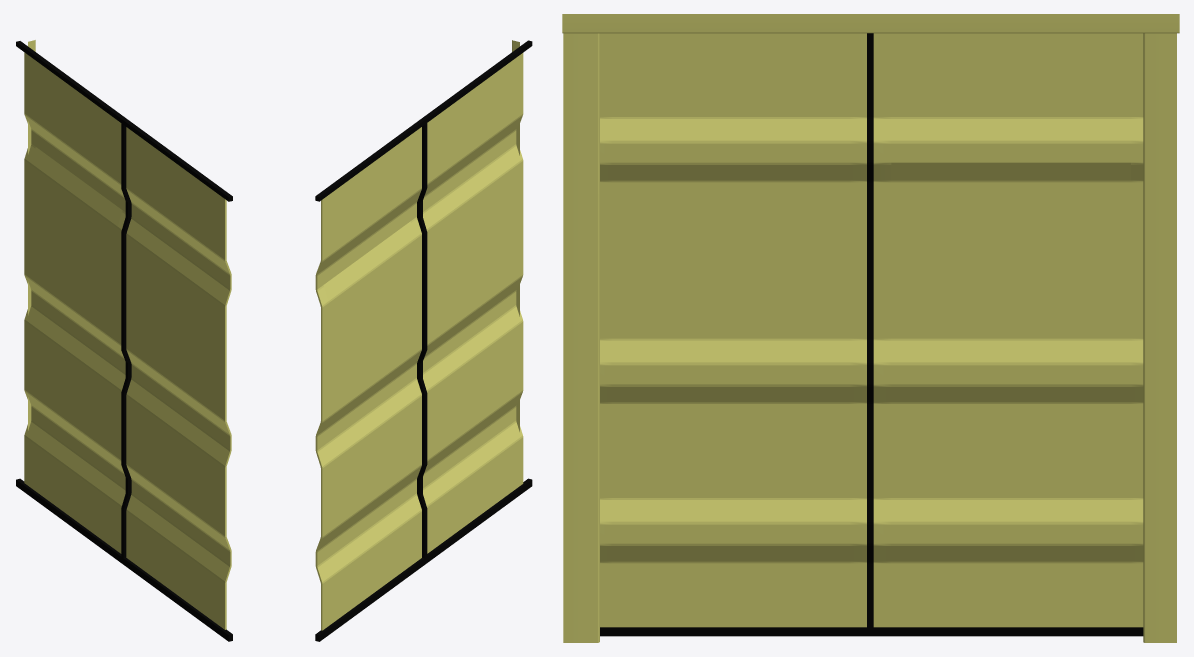
File: rear-top-sprayfoam.glb
The picture shows the model from 3 angles, left to right: view 1: azimuth 30°, elevation 25°; view 2: azimuth 150°, elevation 25°; view 3: azimuth 270°, elevation 25°; orthographic projection. The views are drawn at different scales.
Visible parts, largest first — view 1: 20FT HC Sprayfoam_RearTop; view 2: 20FT HC Sprayfoam_RearTop; view 3: 20FT HC Sprayfoam_RearTop.
Boxes of the visible parts, <box> form: 20FT HC Sprayfoam_RearTop: <box>16,40,232,641</box>; 20FT HC Sprayfoam_RearTop: <box>315,40,532,641</box>; 20FT HC Sprayfoam_RearTop: <box>562,14,1179,642</box>.
Bounding box in the file's own units: 0.1567 × 2.68 × 2.35.
